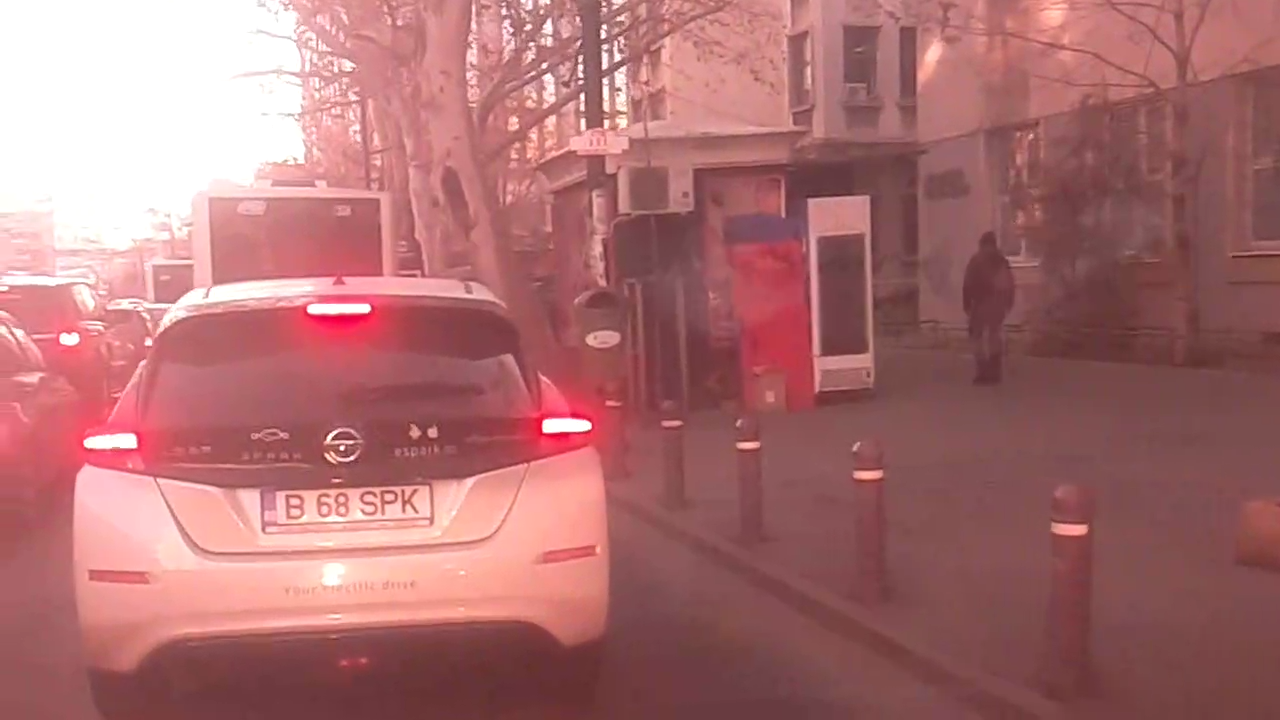license-plate: (255, 478, 439, 530)
